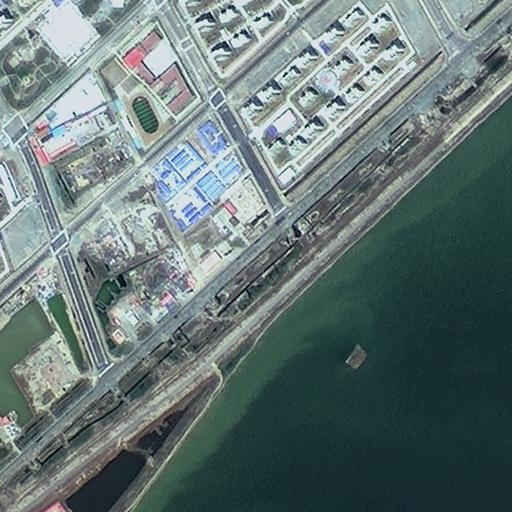school: (93, 16, 203, 155)
